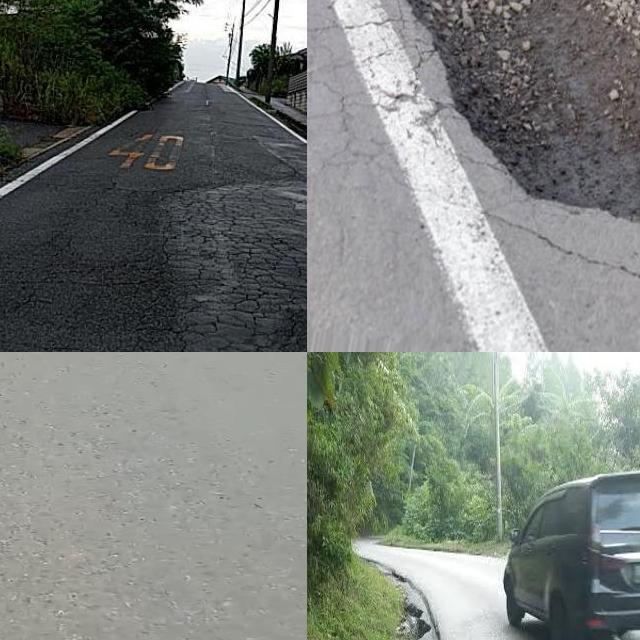Pinggir: (396, 0, 640, 235)
Retak Buaya: (147, 181, 307, 352)
